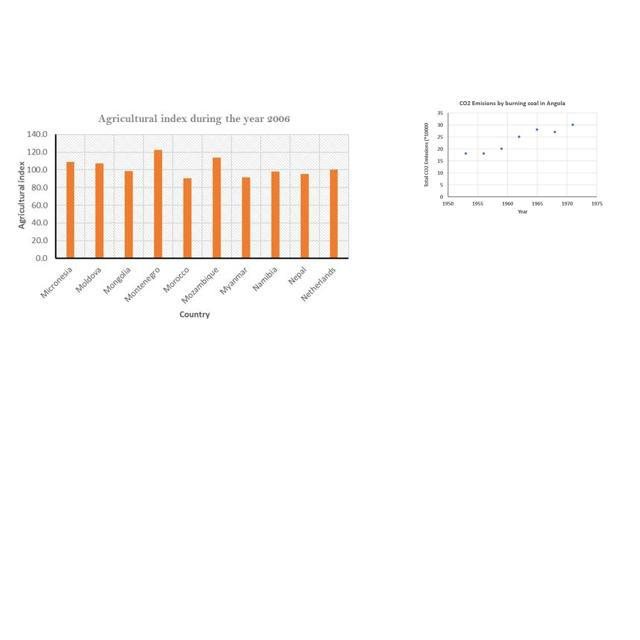Graph: (4, 110, 355, 319), (420, 98, 605, 217)
